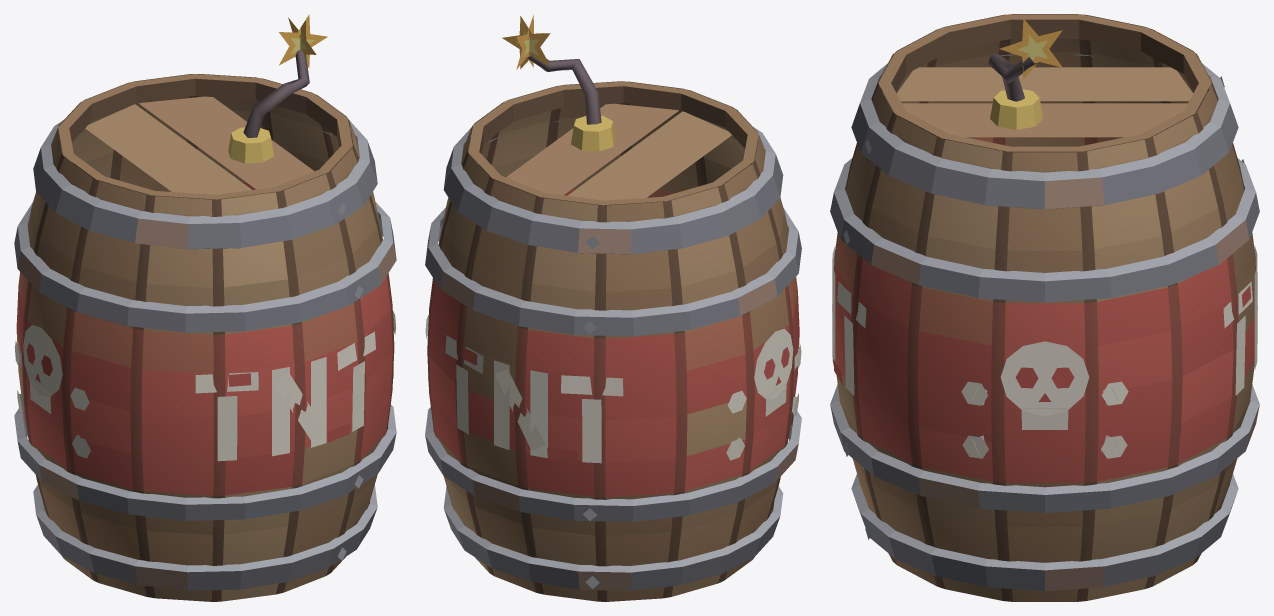
File: barrel.glb
3 renders of one model, left to right at view 1: azimuth 30°, elevation 25°; view 2: azimuth 150°, elevation 25°; view 3: azimuth 270°, elevation 25°, orthographic. The views are drawn at different scales.
Visible parts, largest first — view 1: barrel; view 2: barrel; view 3: barrel.
Boxes of the visible parts, x1=… form: barrel: x1=14, y1=14, x2=396, y2=601; barrel: x1=425, y1=15, x2=801, y2=601; barrel: x1=830, y1=14, x2=1259, y2=601.
Bounding box in the file's own units: 1.22 × 1.76 × 1.21.
